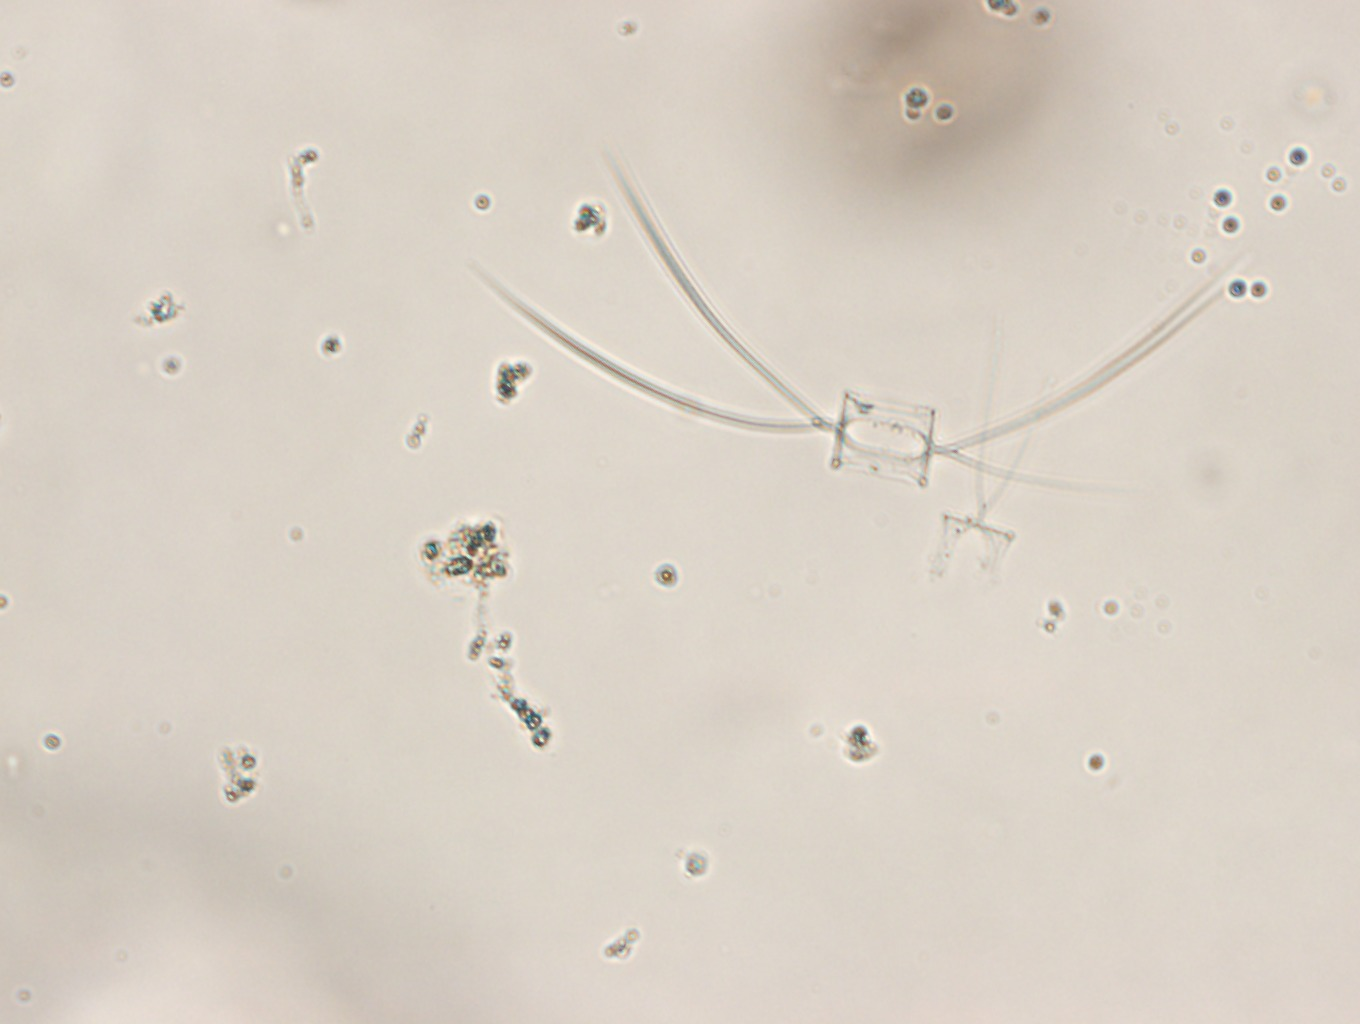chaetoceros: (462, 158, 1256, 489)
